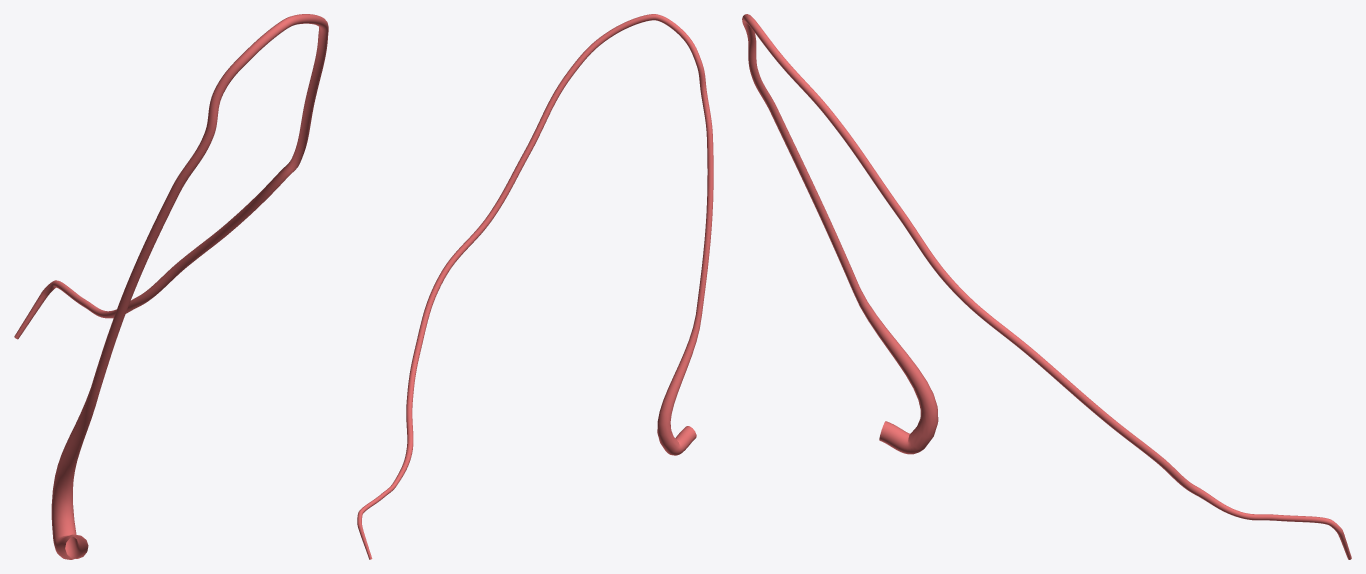
File: Superior_palpebral_arch.l_BezierCurve.316.glb
3 renders of one model, left to right at view 1: azimuth 30°, elevation 25°; view 2: azimuth 150°, elevation 25°; view 3: azimuth 270°, elevation 25°, orthographic. The views are drawn at different scales.
Visible parts, largest first — view 1: Superior_palpebral_arch.l_BezierCurve.316; view 2: Superior_palpebral_arch.l_BezierCurve.316; view 3: Superior_palpebral_arch.l_BezierCurve.316.
Boxes of the visible parts, x1,y1,x2,y2 form: Superior_palpebral_arch.l_BezierCurve.316: [14, 14, 328, 559]; Superior_palpebral_arch.l_BezierCurve.316: [357, 14, 713, 559]; Superior_palpebral_arch.l_BezierCurve.316: [742, 14, 1351, 559].
Size of the model in its own units: 0.0147 by 0.0272 by 0.0296.
